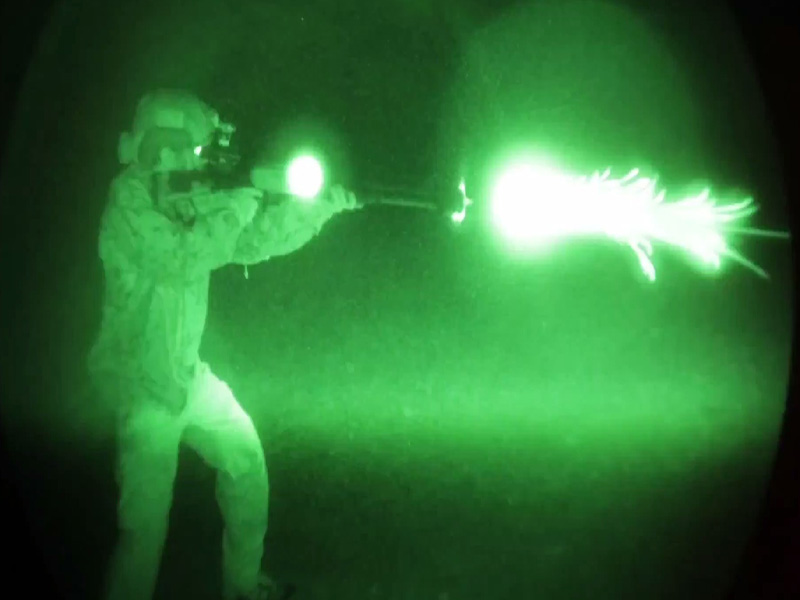cacciatore: (100, 81, 472, 575)
